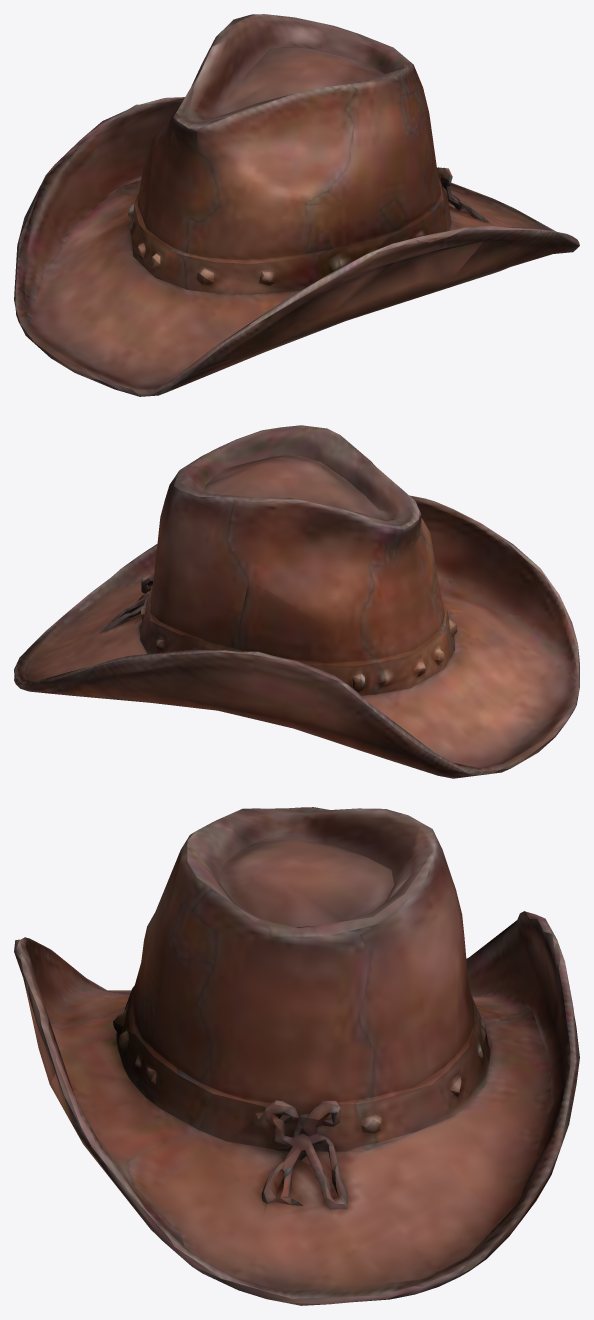
File: stetsonhat.glb
3 views of the same model, one above another, from view 1: azimuth 30°, elevation 25°; view 2: azimuth 150°, elevation 25°; view 3: azimuth 270°, elevation 25° (orthographic). The views are drawn at different scales.
Visible parts, largest first — view 1: Object_4; view 2: Object_4; view 3: Object_4.
Boxes of the visible parts, x1,y1,x2,y2 form: Object_4: (14,14,579,396); Object_4: (14,425,579,778); Object_4: (14,807,579,1305).
Bounding box in the file's own units: 1 × 0.4615 × 0.7578.
Materials: 1 (1 with a texture image).
